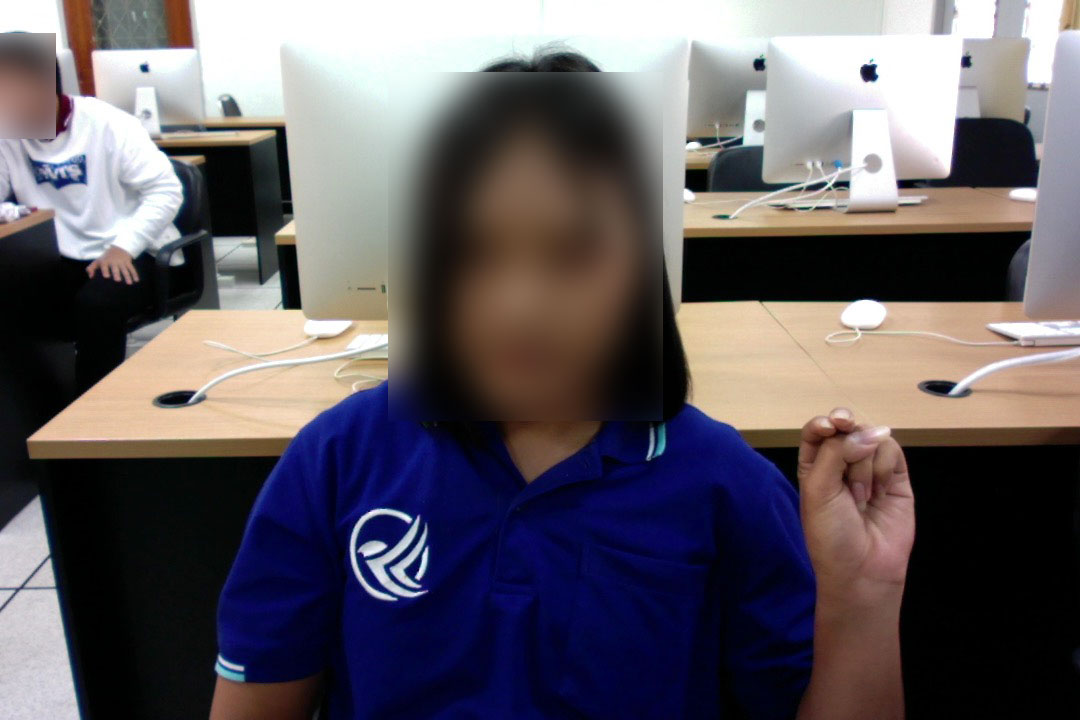nor: (790, 398, 921, 596)
